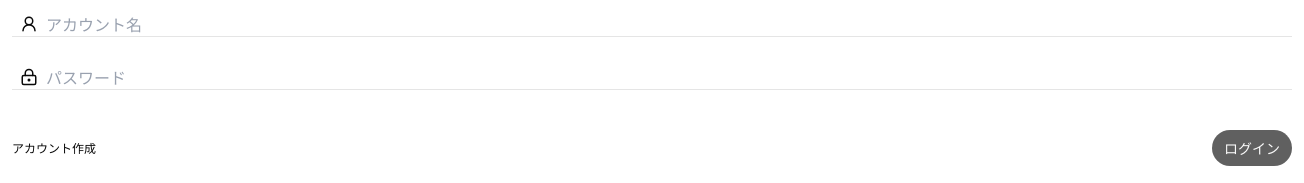
Auth/Organisms/SigninForm › shows error when required fields are empty
Click the button: coordinates (1252, 148) 1212,130 -> 1292,166
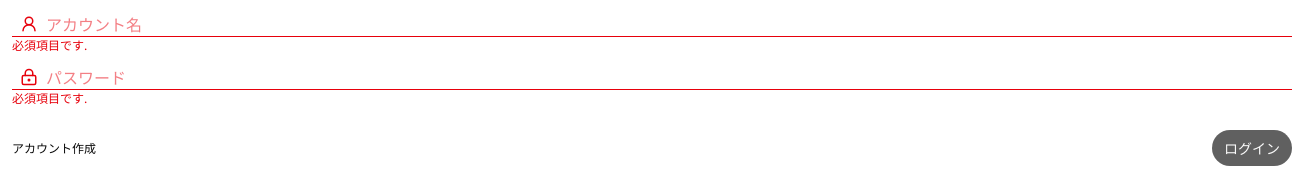
Now the text "必須項目です." is shown 2 times, box 12,36 -> 87,53; 12,89 -> 87,106
